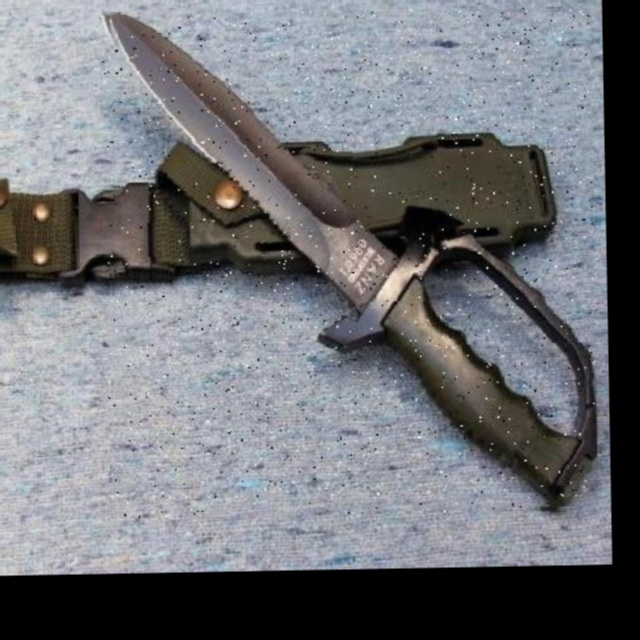Sharp-Object: (101, 5, 598, 517)
